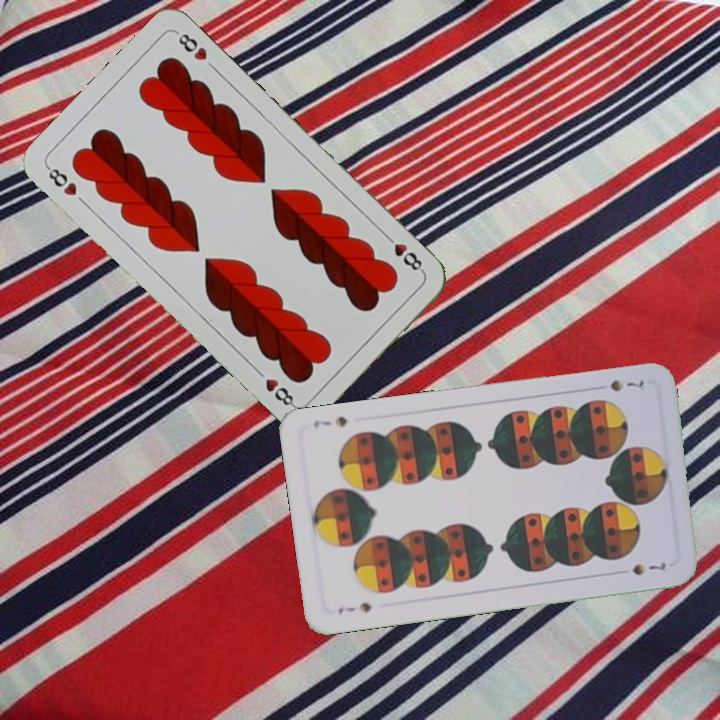H8: (380, 230, 427, 275), (42, 162, 80, 199)
S7: (605, 375, 647, 395), (334, 598, 374, 617)
